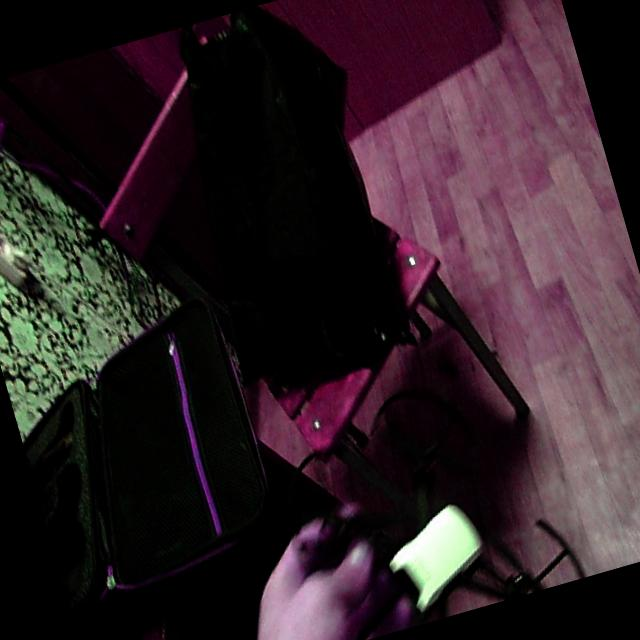drone: (239, 339, 593, 640)
